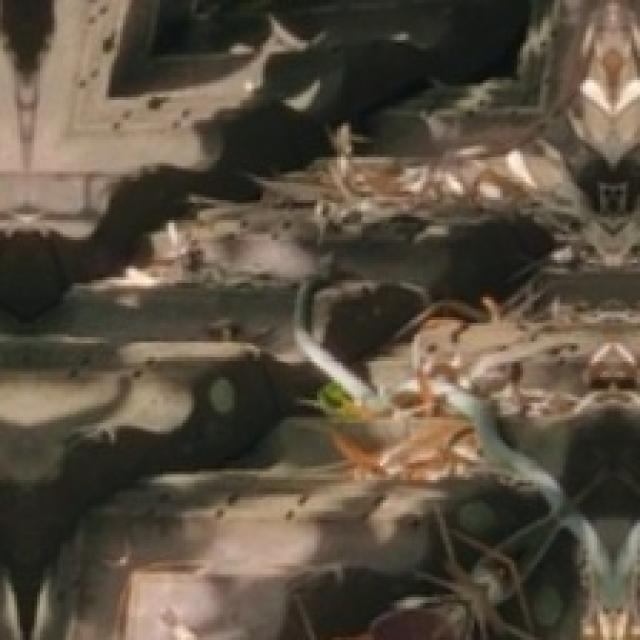paradise tree snake: (431, 379, 580, 538), (294, 255, 391, 411)
